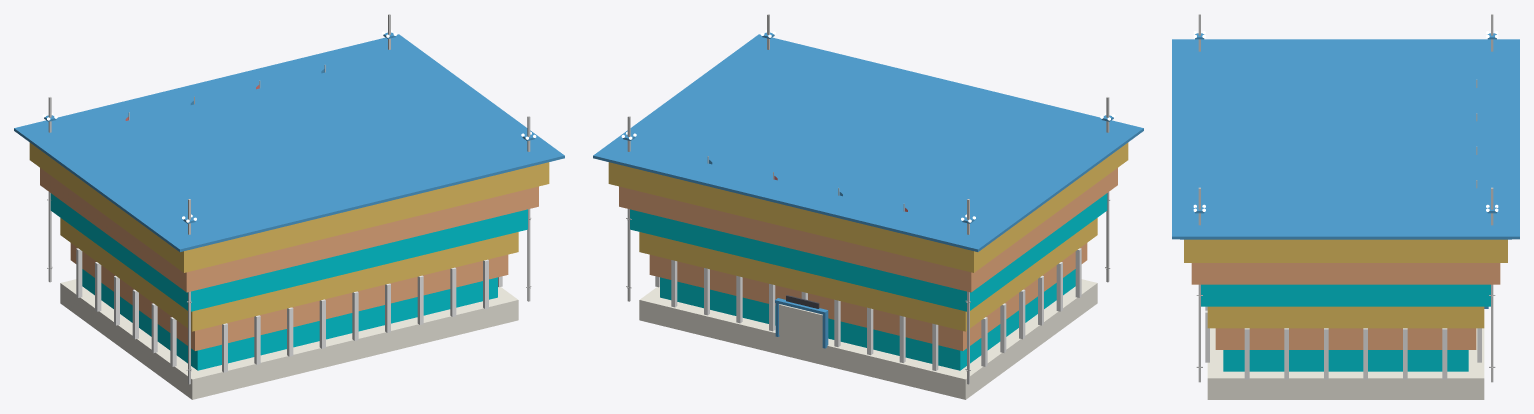
Rendered from Building_3_7.glb.
3 renders of one model, left to right at view 1: azimuth 30°, elevation 25°; view 2: azimuth 150°, elevation 25°; view 3: azimuth 270°, elevation 25°, orthographic. The views are drawn at different scales.
Parts seen in each view (by area): view 1: Canopy, Base, S5, S4, S3, S2, S1, S0; view 2: Canopy, Base, S5, S4, S3, S2, S1, S0, EntRec; view 3: Canopy, Base, S5, S4, S3, S2, S1, S0, TP1, TP2, TopRing.
Boxes of the visible parts, x1,y1,x2,y2 form: Canopy: (14, 34, 564, 251); Base: (60, 279, 518, 399); S5: (29, 142, 549, 272); S4: (40, 168, 538, 292); S3: (50, 193, 527, 311); S2: (60, 218, 518, 331); S1: (70, 243, 508, 350); S0: (82, 269, 497, 370); Canopy: (593, 34, 1143, 251); Base: (639, 279, 1097, 399); S5: (608, 142, 1128, 272); S4: (619, 168, 1117, 292); S3: (630, 193, 1107, 311); S2: (639, 218, 1097, 331); S1: (649, 243, 1087, 350); S0: (660, 269, 1075, 370); EntRec: (779, 304, 822, 345); Canopy: (1172, 39, 1519, 239); Base: (1207, 328, 1484, 399); S5: (1184, 239, 1507, 262); S4: (1191, 263, 1500, 284); S3: (1201, 284, 1490, 306); S2: (1207, 306, 1484, 328); S1: (1215, 328, 1476, 349); S0: (1223, 350, 1468, 371); TP1: (1198, 187, 1200, 382); TP2: (1491, 187, 1493, 382); TopRing: (1180, 239, 1511, 239).
Bounding box in the file's own units: 5.9 × 3 × 4.4.
